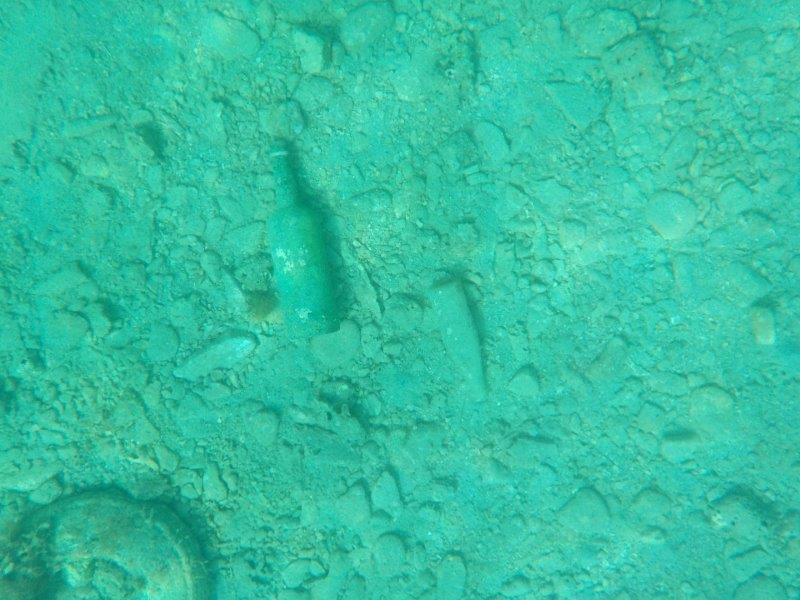bottle: (260, 136, 348, 343), (422, 275, 496, 411)
tire: (1, 485, 215, 600)
